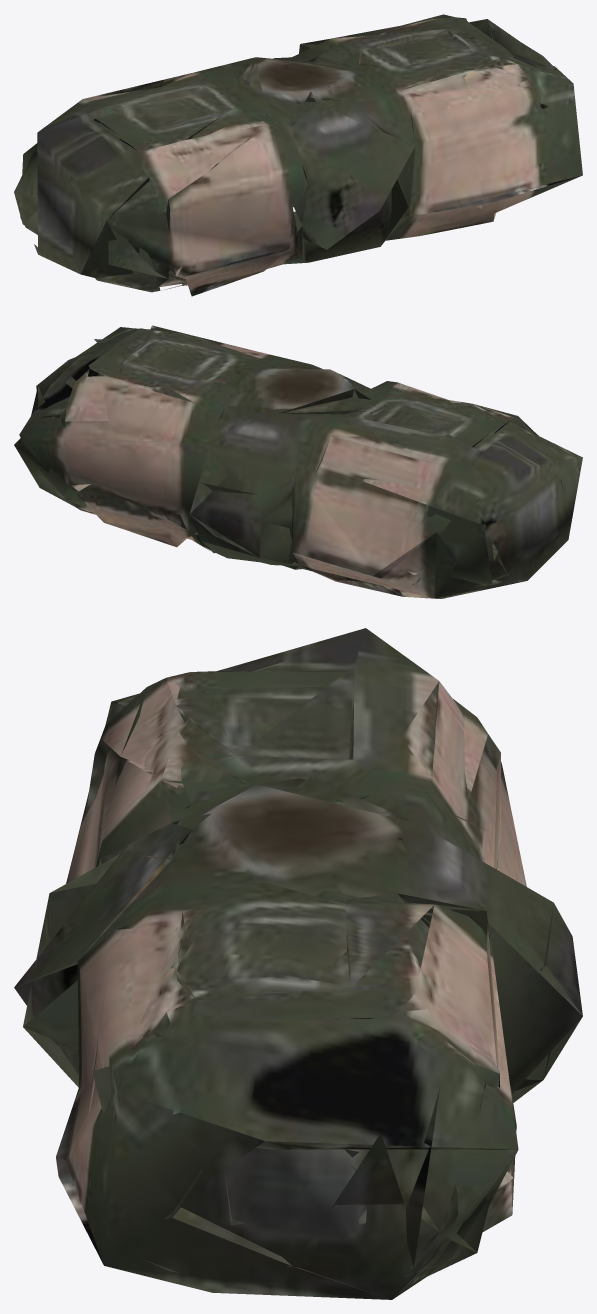
Rendered from deploy_cover_850046286_lod0.glb.
3 views of the same model, one above another, from view 1: azimuth 30°, elevation 25°; view 2: azimuth 150°, elevation 25°; view 3: azimuth 270°, elevation 25° (orthographic). The views are drawn at different scales.
Size of the model in its own units: 2.62 by 0.8116 by 1.38.
Materials: 1 (1 with a texture image).
